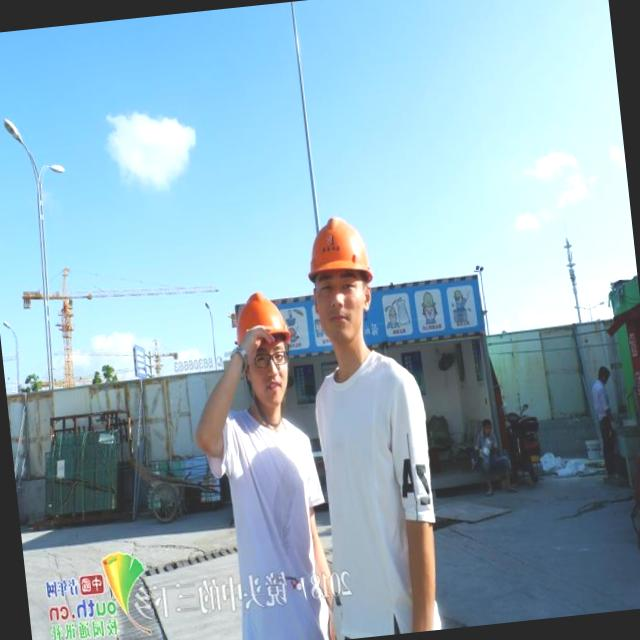helmet: (298, 206, 380, 294), (226, 285, 296, 360)
no-goggles: (302, 270, 381, 312)
no-vest: (304, 350, 422, 601), (216, 395, 330, 640)
